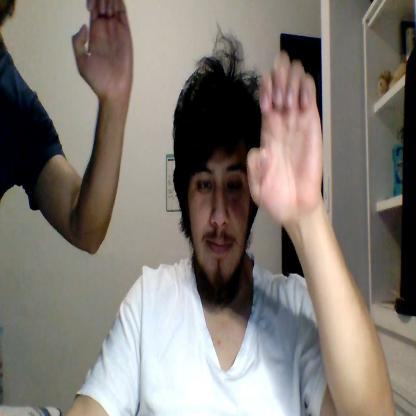E: (246, 52, 323, 216), (71, 0, 134, 95)
